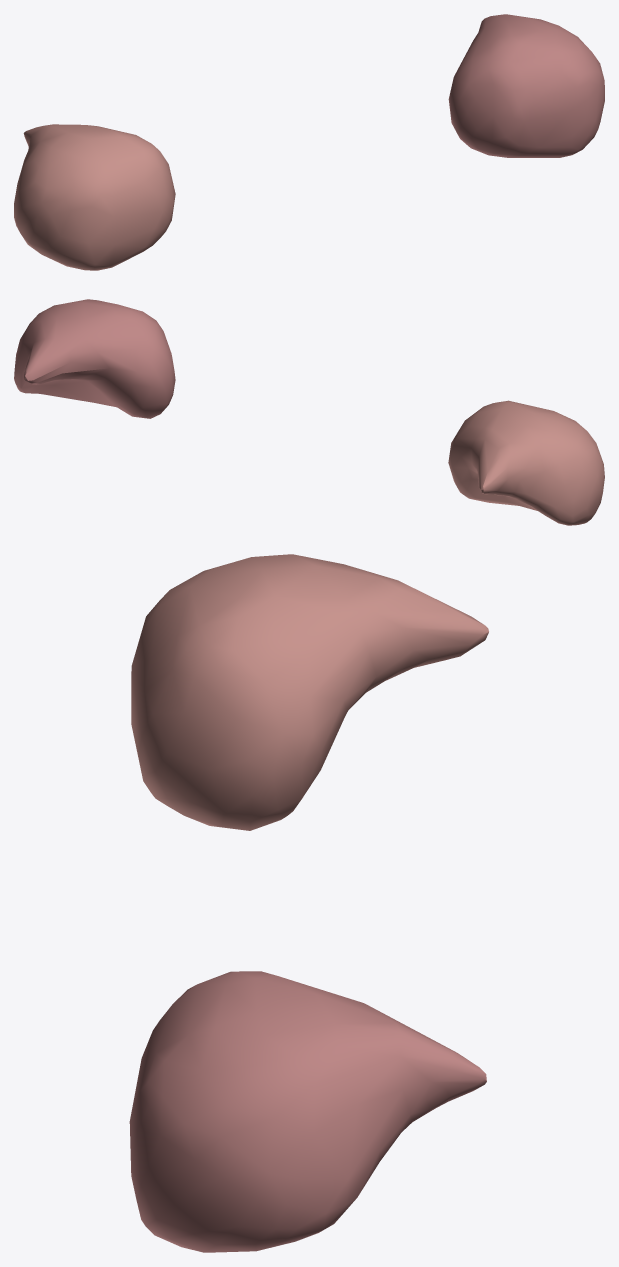
File: amygdala.glb
The picture shows the model from 3 angles, top to bottom: view 1: azimuth 30°, elevation 25°; view 2: azimuth 150°, elevation 25°; view 3: azimuth 270°, elevation 25°; orthographic projection. The views are drawn at different scales.
Visible parts, largest first — view 1: FJ1829 Right amygdala, FJ1753 Left amygdala; view 2: FJ1753 Left amygdala, FJ1829 Right amygdala; view 3: FJ1753 Left amygdala, FJ1829 Right amygdala.
Part boxes in pixels (x1,y1,x2,y2): FJ1829 Right amygdala: [14, 124, 175, 270]; FJ1753 Left amygdala: [448, 14, 604, 157]; FJ1753 Left amygdala: [14, 299, 175, 418]; FJ1829 Right amygdala: [448, 400, 604, 525]; FJ1753 Left amygdala: [129, 971, 486, 1252]; FJ1829 Right amygdala: [131, 554, 488, 830].
Bounding box in the file's own units: 0.068 × 0.0129 × 0.0185.
